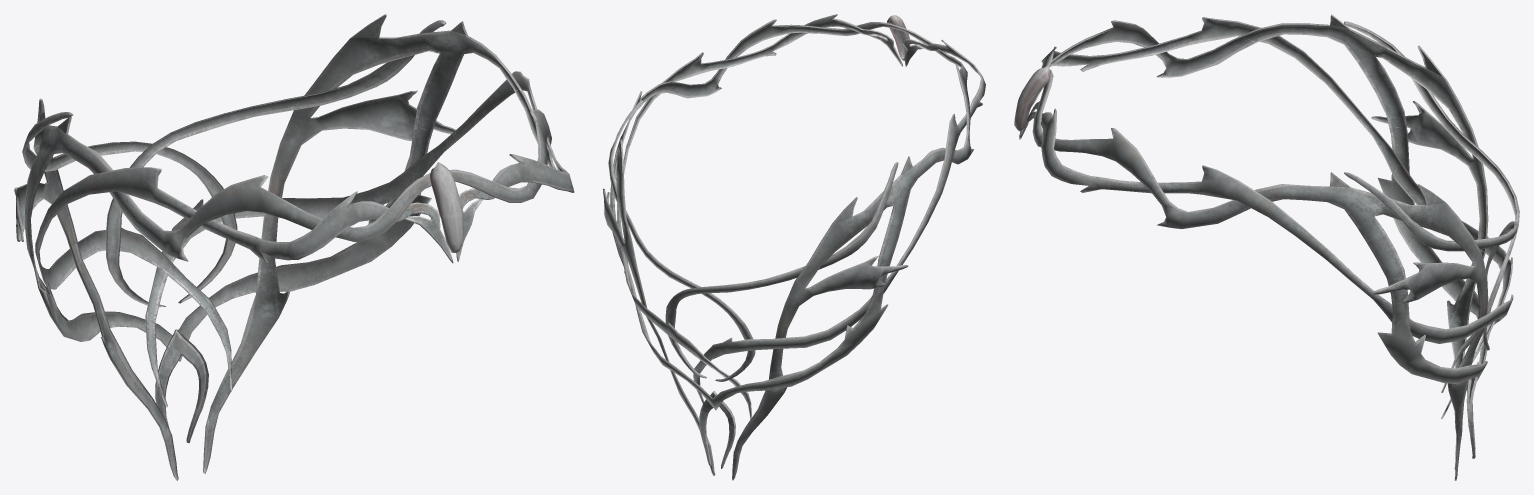
File: thranduil_helmet.fbx
3 views of the same model, side by side, from view 1: azimuth 30°, elevation 25°; view 2: azimuth 150°, elevation 25°; view 3: azimuth 270°, elevation 25° (orthographic). The views are drawn at different scales.
Visible parts, largest first — view 1: thranduil_helmet; view 2: thranduil_helmet; view 3: thranduil_helmet.
Boxes of the visible parts, x1,y1,x2,y2 form: thranduil_helmet: (14, 14, 574, 480); thranduil_helmet: (603, 14, 985, 480); thranduil_helmet: (1014, 14, 1519, 480).
Bounding box in the file's own units: 0.1871 × 0.224 × 0.2.
1 material, 1 textured.
